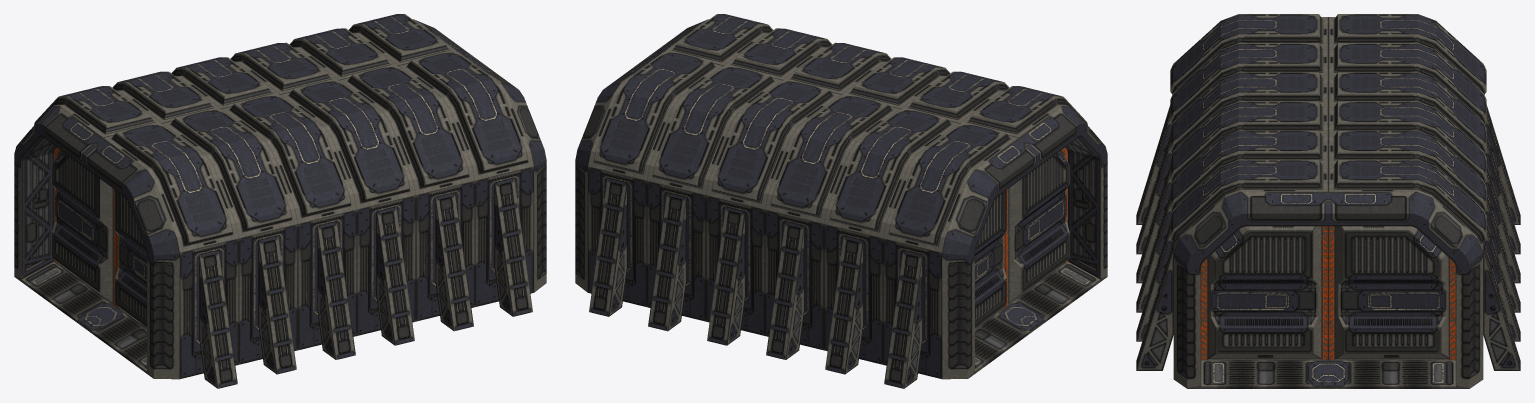
File: hangar_fbx.fbx
3 views of the same model, side by side, from view 1: azimuth 30°, elevation 25°; view 2: azimuth 150°, elevation 25°; view 3: azimuth 270°, elevation 25° (orthographic).
Visible parts, largest first — view 1: hangar; view 2: hangar; view 3: hangar.
Boxes of the visible parts, x1=… form: hangar: x1=14, y1=14, x2=546, y2=388; hangar: x1=575, y1=14, x2=1107, y2=388; hangar: x1=1136, y1=14, x2=1520, y2=388.
Bounding box in the file's own units: 4444 × 2091 × 3723.
1 material, 1 textured.
